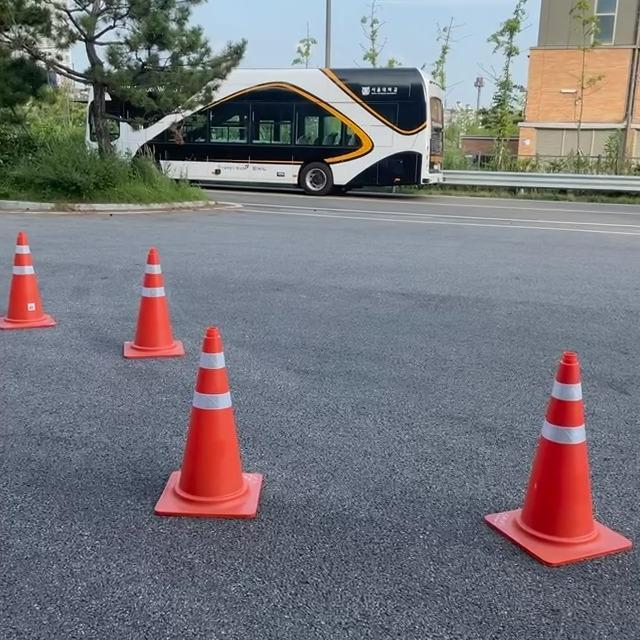fallen_object: (467, 320, 611, 589), (152, 319, 281, 555), (99, 230, 198, 394), (0, 216, 59, 353)
